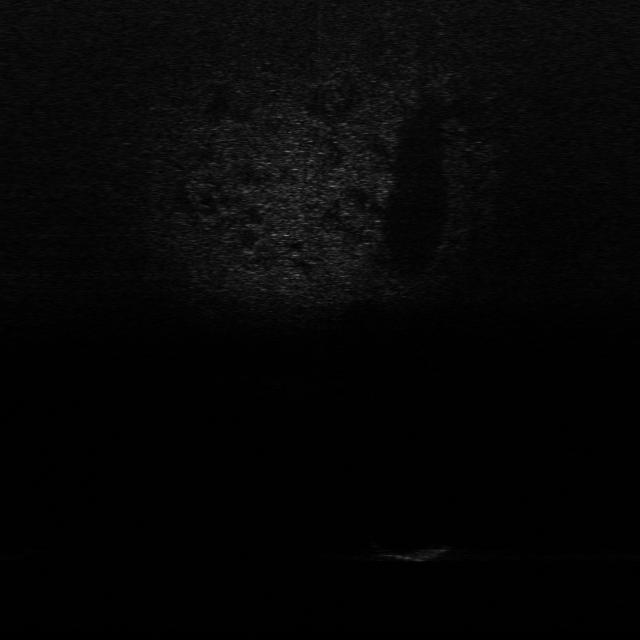metal bucket: (357, 528, 461, 566)
